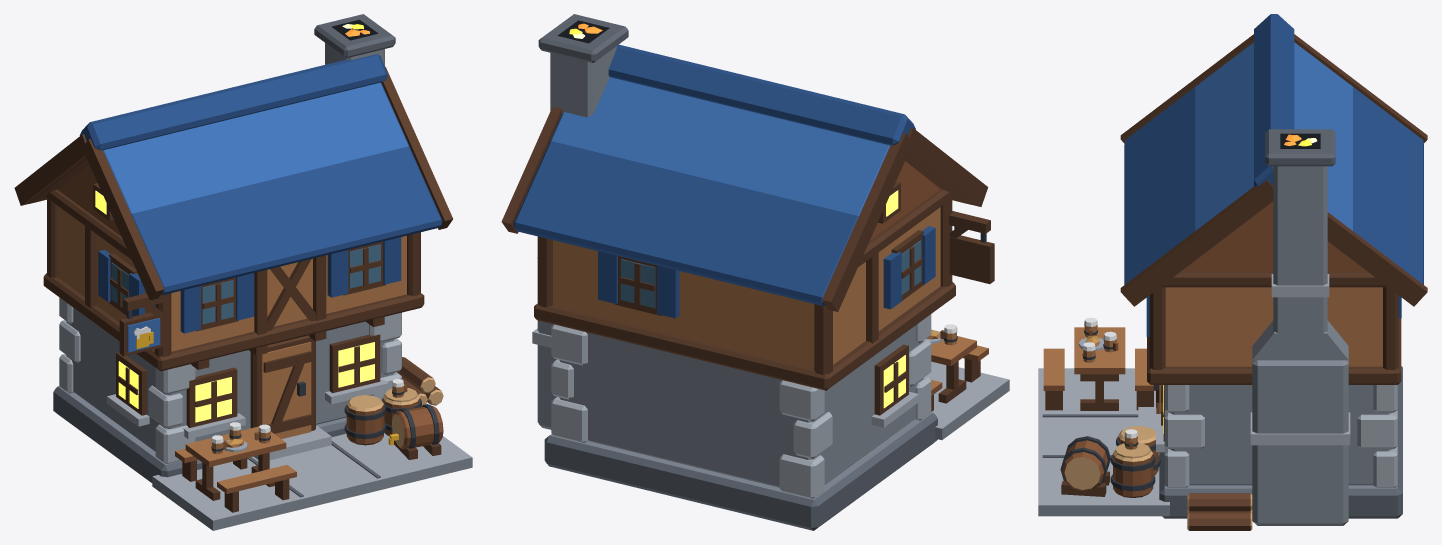
File: Bld_Tavern.fbx
3 renders of one model, left to right at view 1: azimuth 30°, elevation 25°; view 2: azimuth 150°, elevation 25°; view 3: azimuth 270°, elevation 25°, orthographic. The views are drawn at different scales.
Parts seen in each view (by area): view 1: Bld_Tavern; view 2: Bld_Tavern; view 3: Bld_Tavern.
Boxes of the visible parts, left/top/right/bottom form: Bld_Tavern: left=14, top=14, right=472, bottom=530; Bld_Tavern: left=501, top=14, right=1009, bottom=530; Bld_Tavern: left=1038, top=14, right=1427, bottom=530.
Bounding box in the file's own units: 4.82 × 4.88 × 4.44.
